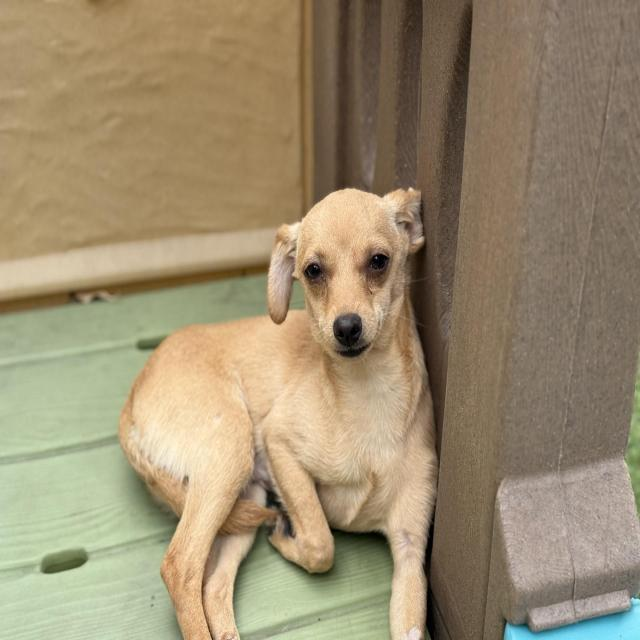chihuahua_dog: (259, 179, 441, 380)
